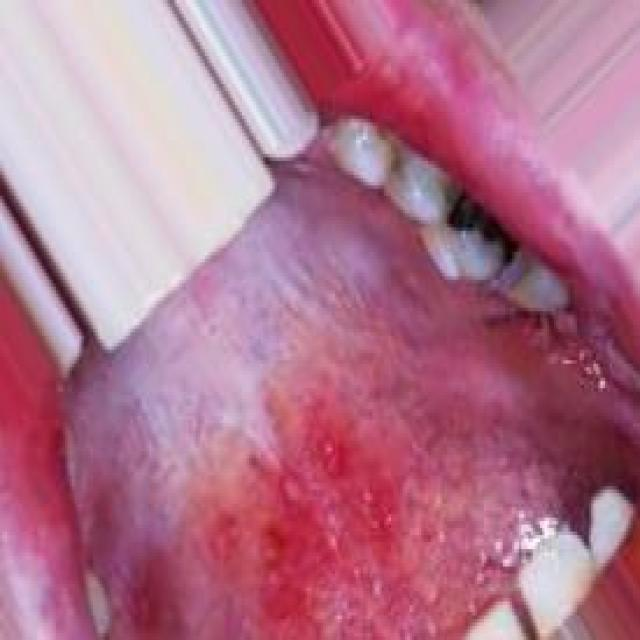caries: (441, 175, 516, 273)
